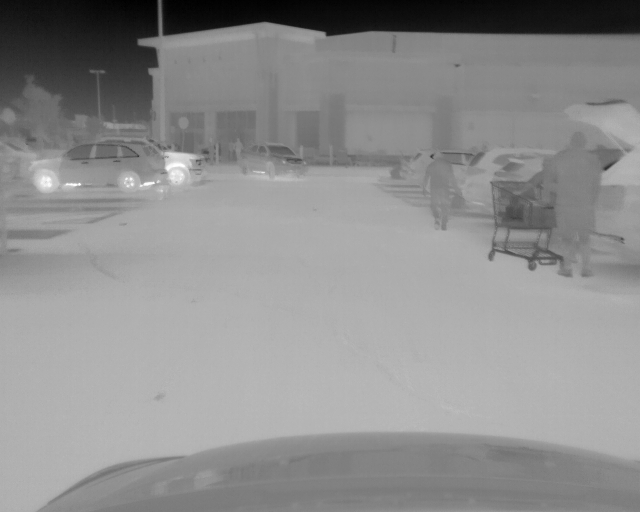car: (562, 97, 640, 263), (29, 140, 168, 193), (461, 145, 561, 206), (114, 137, 207, 187), (400, 152, 477, 190), (237, 143, 306, 180)
people: (422, 151, 461, 230)
